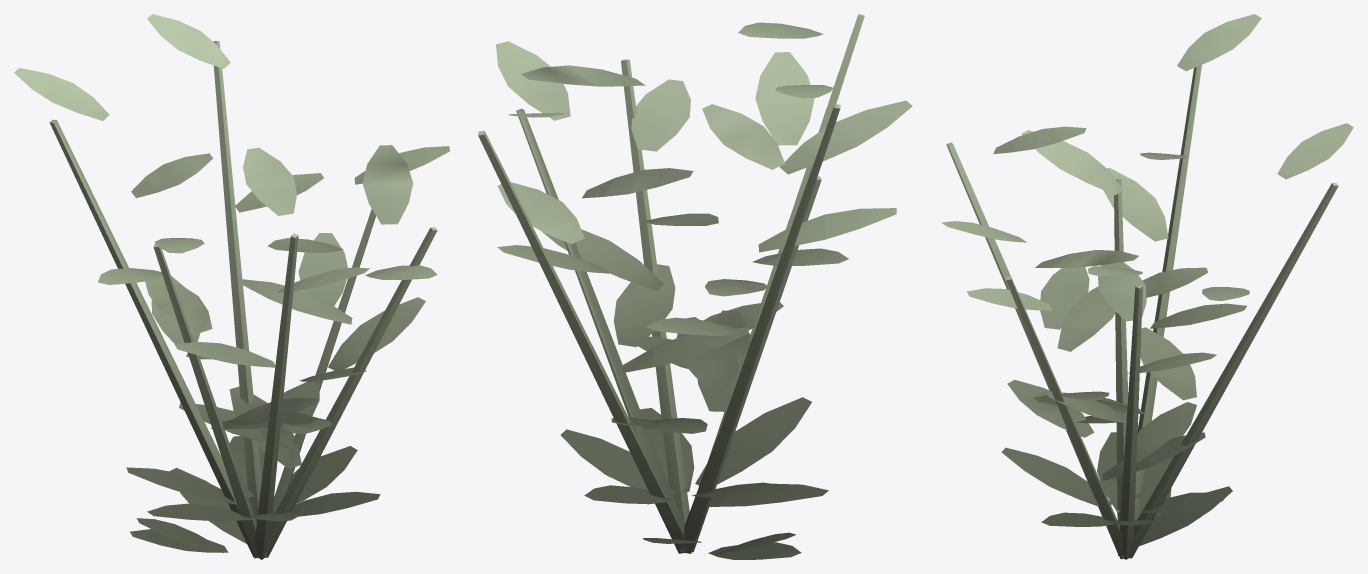
The model's file is herb_clump.glb.
3 views of the same model, side by side, from view 1: azimuth 30°, elevation 25°; view 2: azimuth 150°, elevation 25°; view 3: azimuth 270°, elevation 25° (orthographic). The views are drawn at different scales.
Visible parts, largest first — view 1: foliage; view 2: foliage; view 3: foliage.
Boxes of the visible parts, x1,y1,x2,y2 form: foliage: [14, 14, 449, 559]; foliage: [478, 14, 912, 559]; foliage: [941, 14, 1353, 559].
Size of the model in its own units: 0.7745 by 1 by 0.8144.
